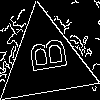B: (20, 36, 67, 76)
